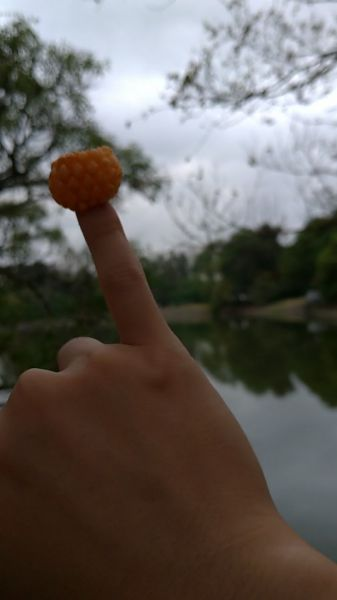eggs: (44, 148, 126, 209)
